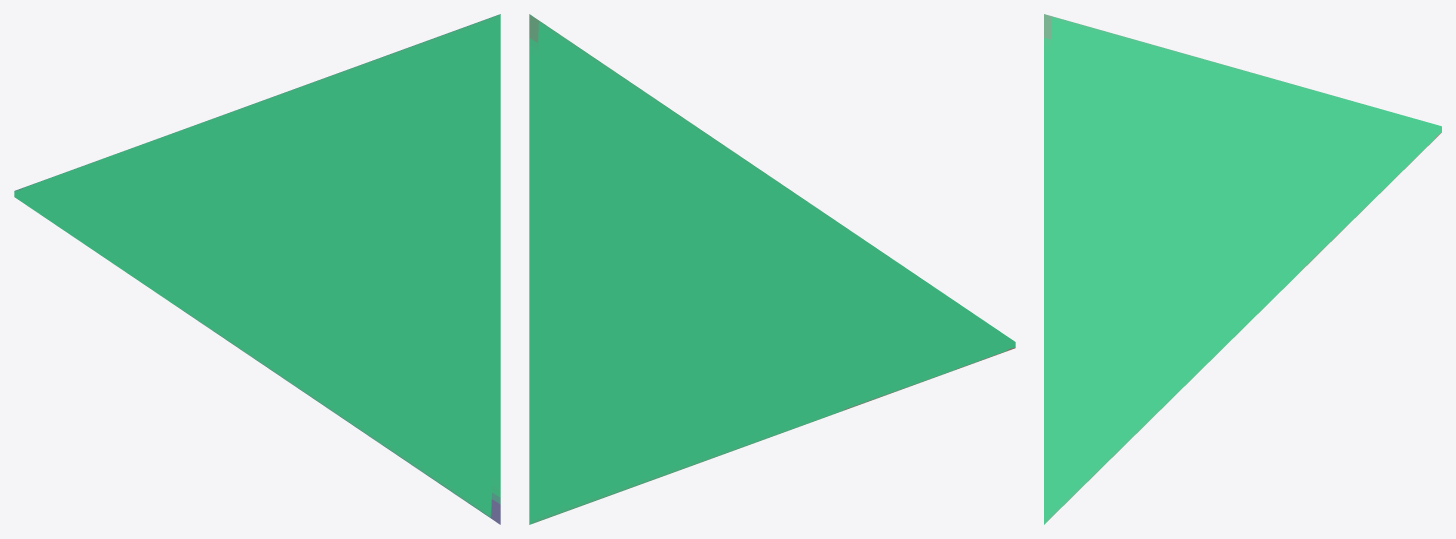
The model's file is ai_neural_activation_sketchfab_holographic_animated_1767183145963.glb.
3 renders of one model, left to right at view 1: azimuth 30°, elevation 25°; view 2: azimuth 210°, elevation 25°; view 3: azimuth 270°, elevation 25°, orthographic.
Visible parts, largest first — view 1: Hologram_OuterGlow (×2), Hologram_Core; view 2: Hologram_OuterGlow (×2), Hologram_Core; view 3: Hologram_OuterGlow (×2), Hologram_Core.
Boxes of the visible parts, x1,y1,x2,y2 form: Hologram_OuterGlow (×2): (14, 14, 500, 517); Hologram_Core: (14, 14, 500, 524); Hologram_OuterGlow (×2): (529, 15, 1015, 524); Hologram_Core: (529, 14, 1015, 524); Hologram_OuterGlow (×2): (1044, 14, 1441, 524); Hologram_Core: (1044, 14, 1441, 524).
Bounding box in the file's own units: 356 × 605 × 427.
